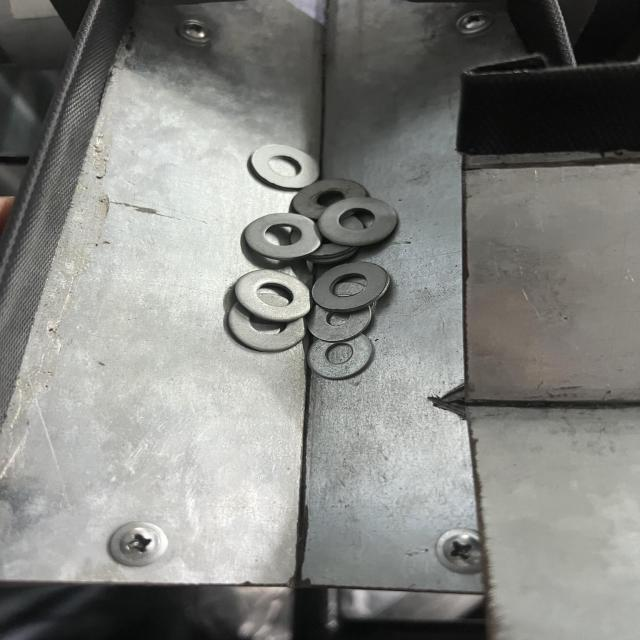washer: (234, 269, 316, 322), (245, 213, 325, 261), (248, 143, 320, 189)
